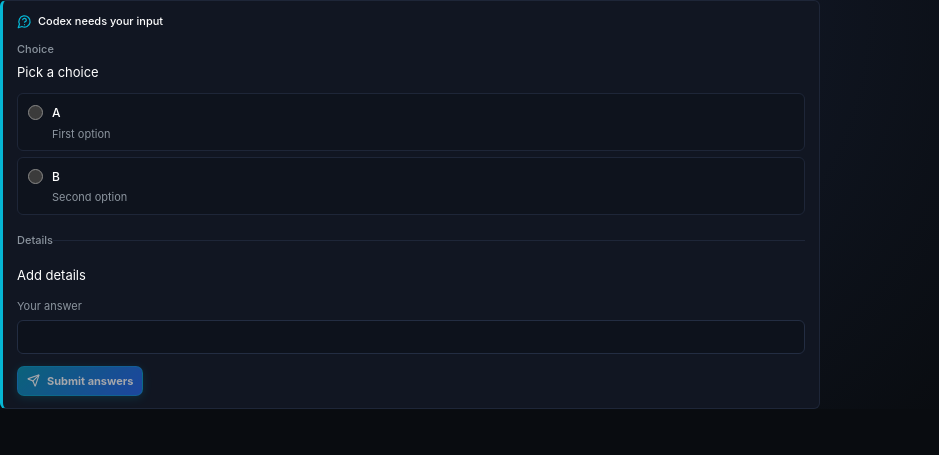
Test: submits selected and custom answers, preserves failed input, and prevents resubmission
The image size is (939, 455).
Expected: the button "Submit answers" is disabled, x1=17 y1=366 x2=143 y2=396
Click the radio button labelled "A First option" at (36, 113), box x1=28 y1=105 x2=43 y2=120
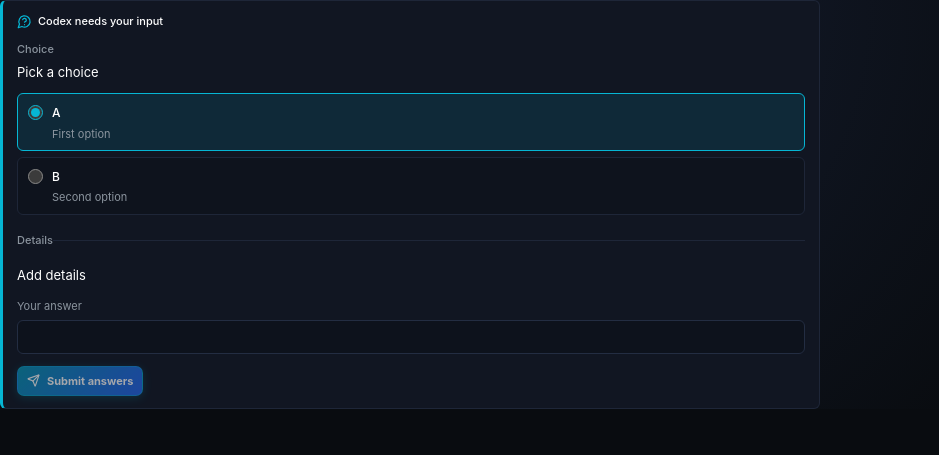
Type "custom reply" into the password field labelled "Your answer" at (411, 337), box x1=17 y1=320 x2=805 y2=354
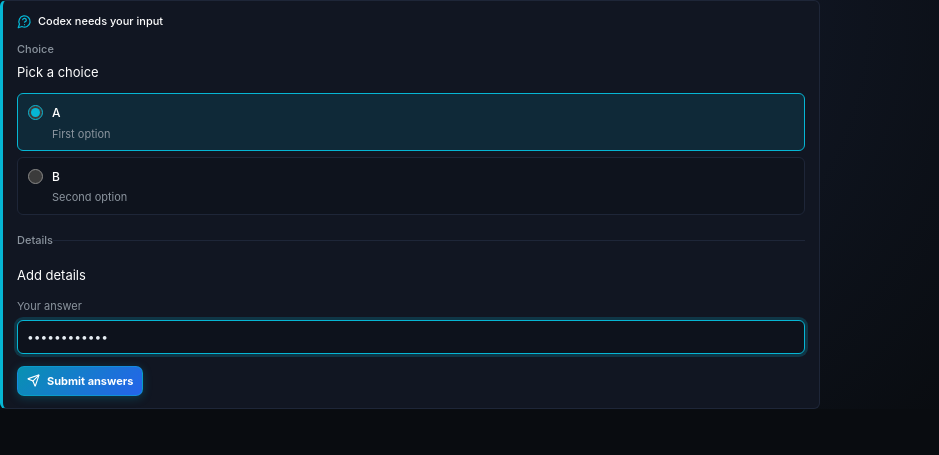
Click the button "Submit answers" at (80, 381), box x1=17 y1=366 x2=143 y2=396
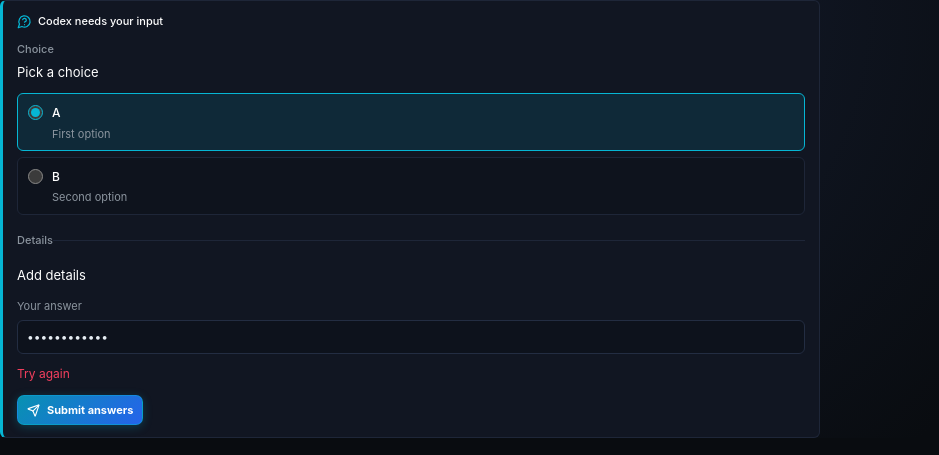
Expected: the message "Try again" is shown, x1=17 y1=366 x2=70 y2=381
Click the button "Submit answers" at (80, 410), box x1=17 y1=396 x2=143 y2=426
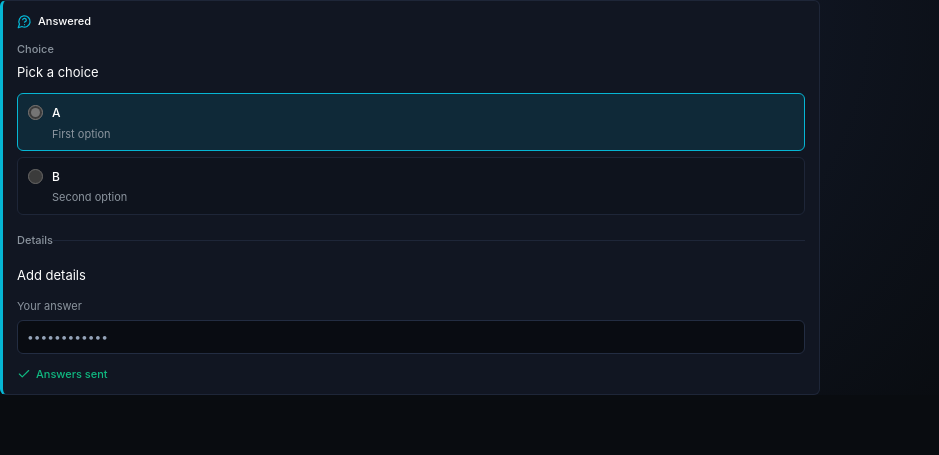
Expected: the button "Answers sent" is disabled, x1=17 y1=366 x2=108 y2=382
